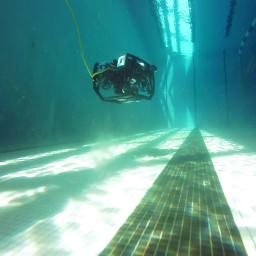back: (92, 53, 160, 106)
